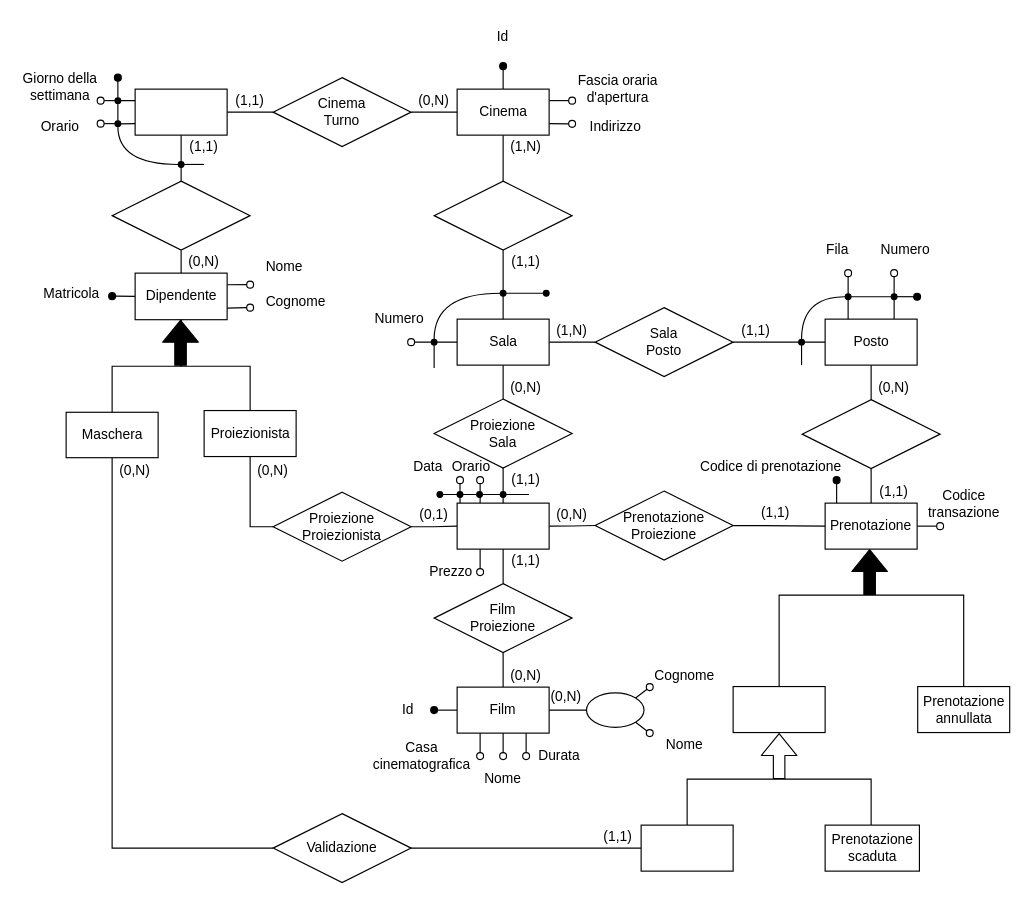
The diagram is 1029 pixels wide and 903 high, and some of its shapes have lost their labels. The shapes that lost their labels are listed below. From the top down, each one's centre as x and y in pixels, then its label:
the point at 180,111: Turno
the point at 180,215: Dipendente Turno
the point at 502,215: Cinema Sala
the point at 870,433: Posto Prenotazione
the point at 502,525: Proiezione
the point at 614,709: Cast
the point at 778,709: Prenotazione confermata
the point at 686,847: Prenotazione validata
